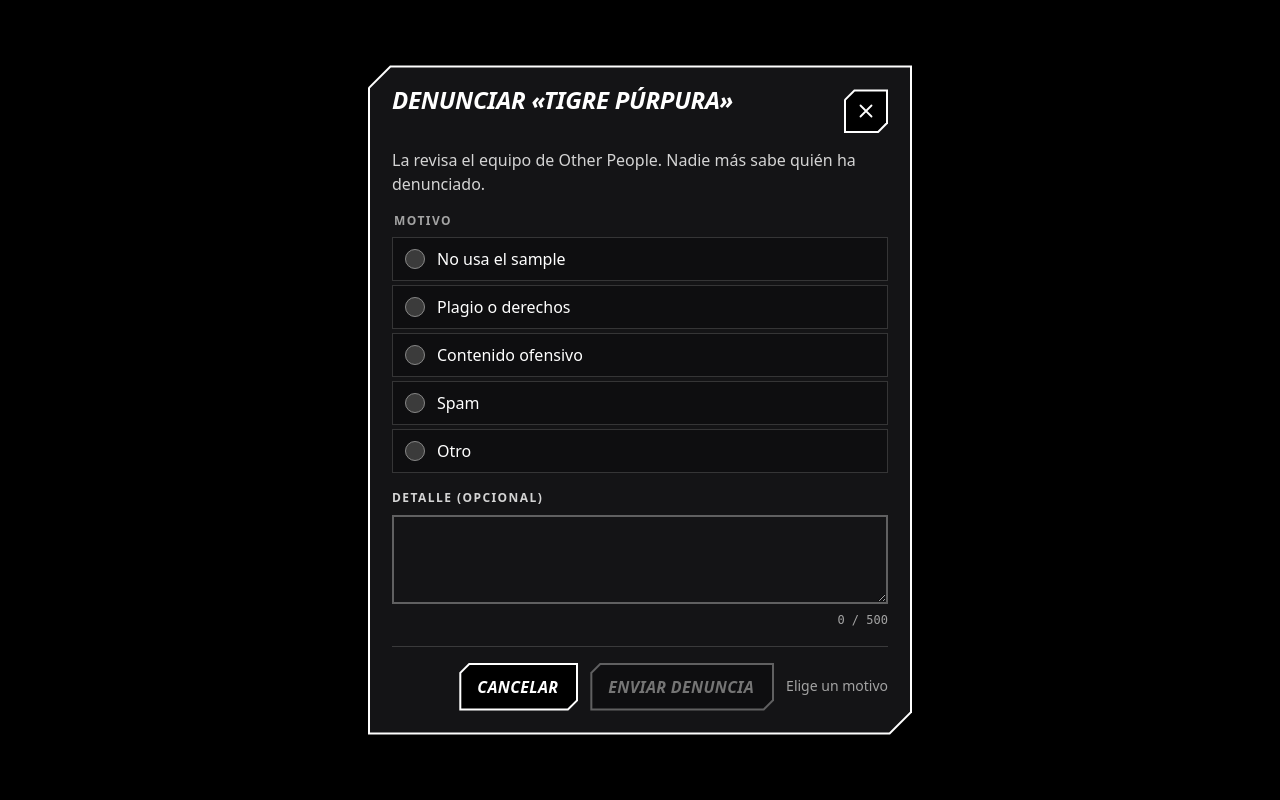
Test: denunciar (§2.7) › RF-VOTE-12: la segunda denuncia a la misma entrada lo dice
Click the radio button labelled "Spam": x=415, y=403 x1=405 y1=393 x2=425 y2=413
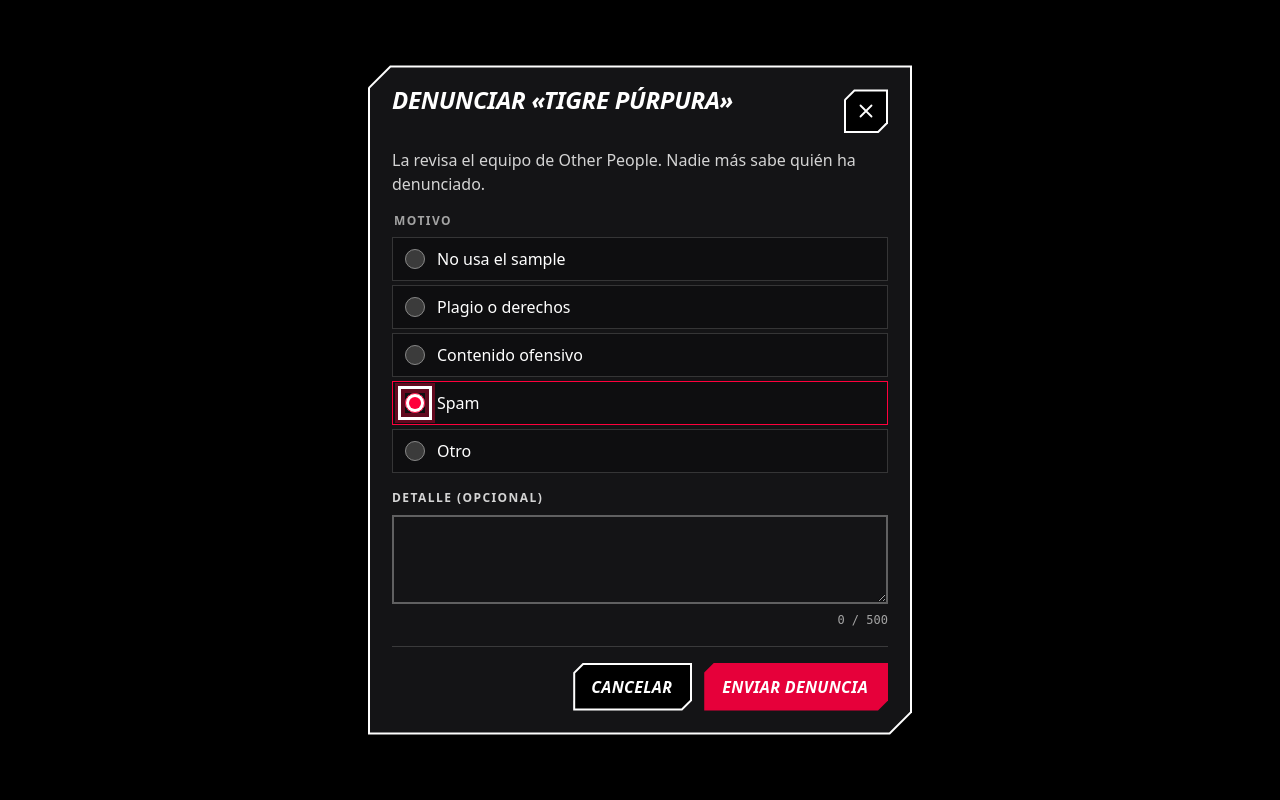
Click the button "Enviar denuncia": x=796, y=686 x1=704 y1=662 x2=888 y2=710
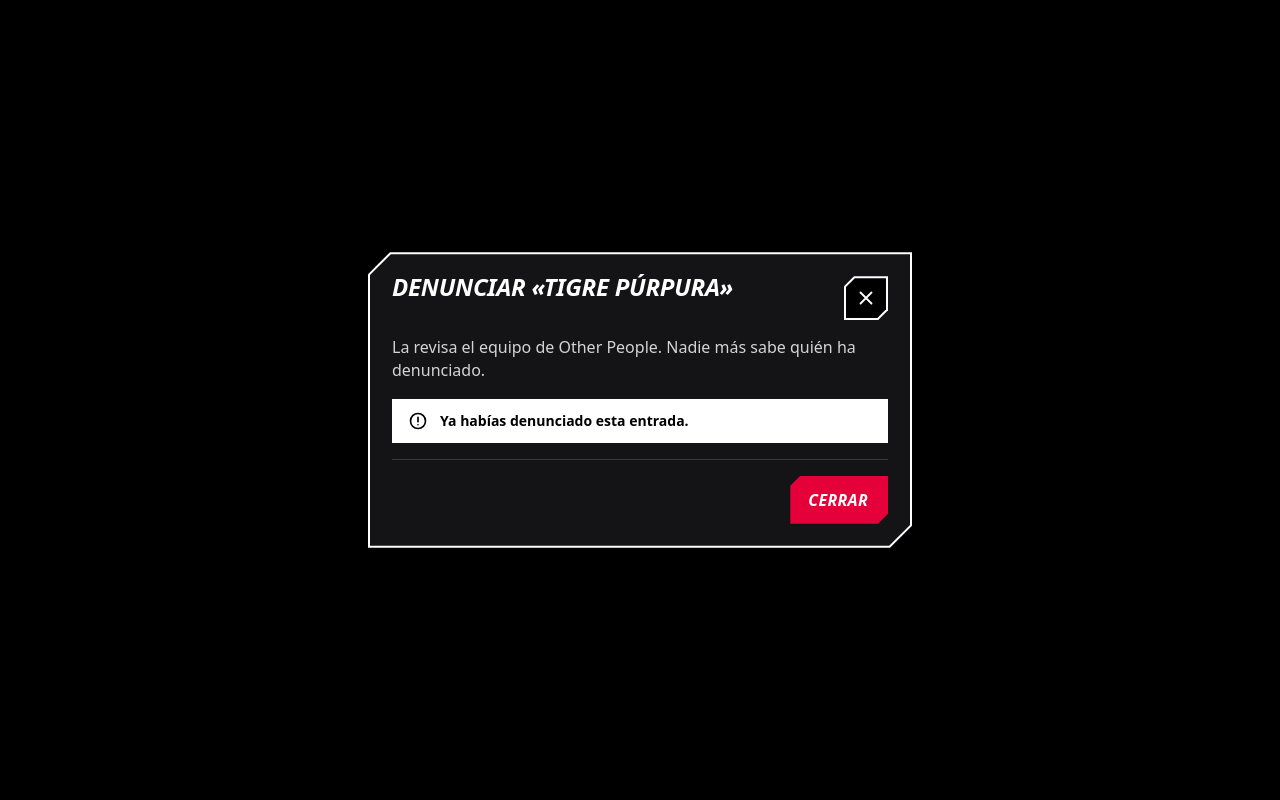
Check: the text "Ya habías denunciado esta entrada." is shown, box x1=440 y1=410 x2=689 y2=431
